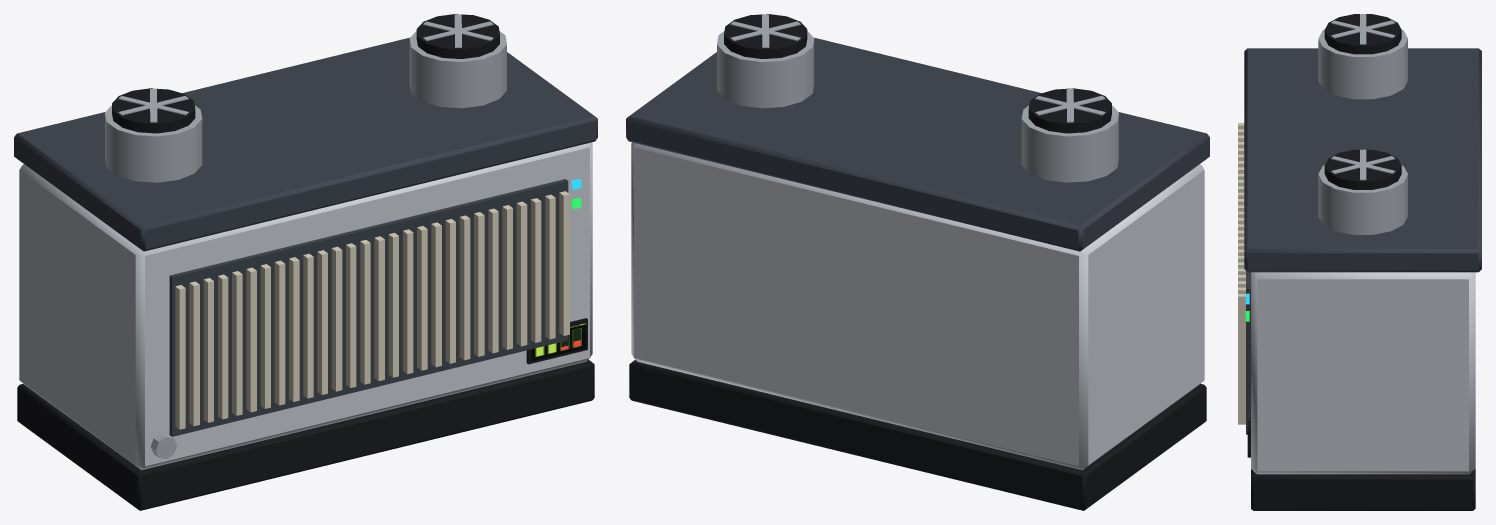
Rendered from scrubber_hepa_particulate_unit.glb.
3 renders of one model, left to right at view 1: azimuth 30°, elevation 25°; view 2: azimuth 150°, elevation 25°; view 3: azimuth 270°, elevation 25°, orthographic. The views are drawn at different scales.
Parts seen in each view (by area): view 1: scrubber_hepa_particulate_unit; view 2: scrubber_hepa_particulate_unit; view 3: scrubber_hepa_particulate_unit.
Part boxes in pixels (<box>): scrubber_hepa_particulate_unit: <box>14,14,597,510</box>; scrubber_hepa_particulate_unit: <box>626,14,1209,510</box>; scrubber_hepa_particulate_unit: <box>1238,14,1481,510</box>.
Bounding box in the file's own units: 1.5 × 1.08 × 0.76.
8 materials, 1 textured.
